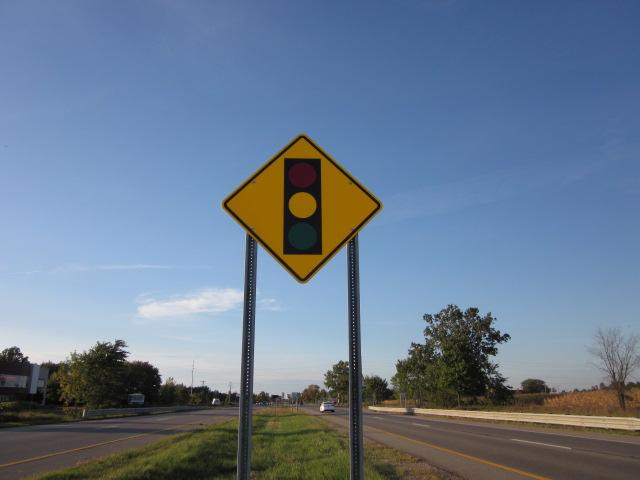warning: (221, 124, 385, 287)
